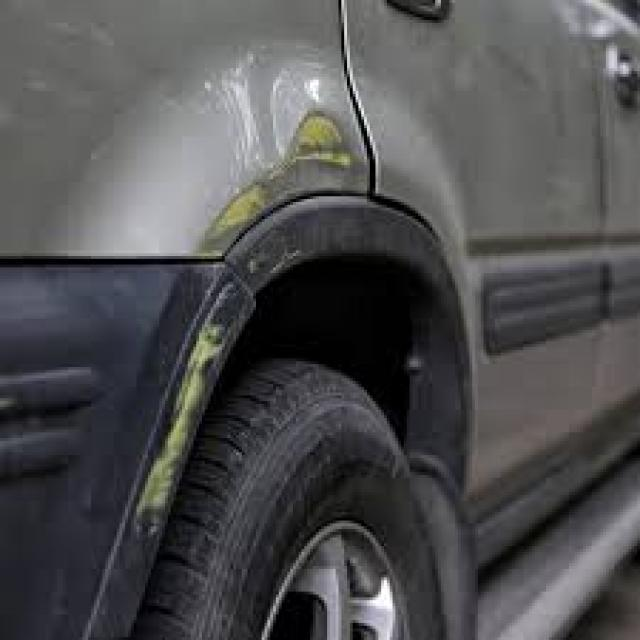dent-or-scratch: (110, 111, 352, 512)
